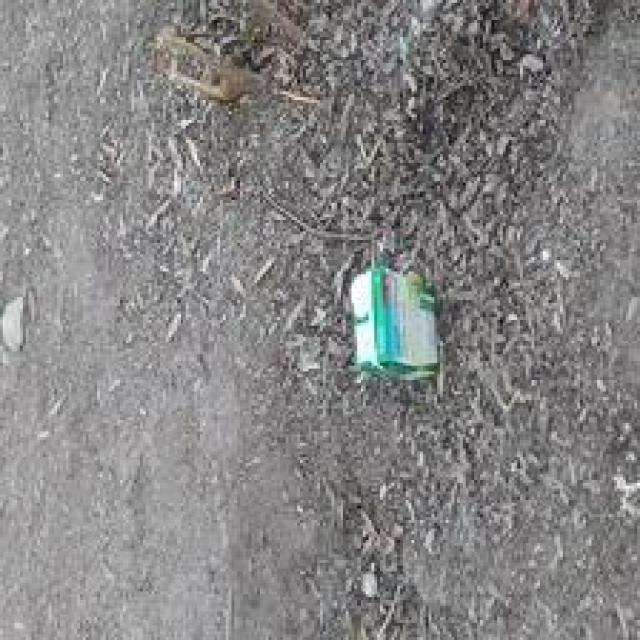Carton: (349, 264, 442, 384)
